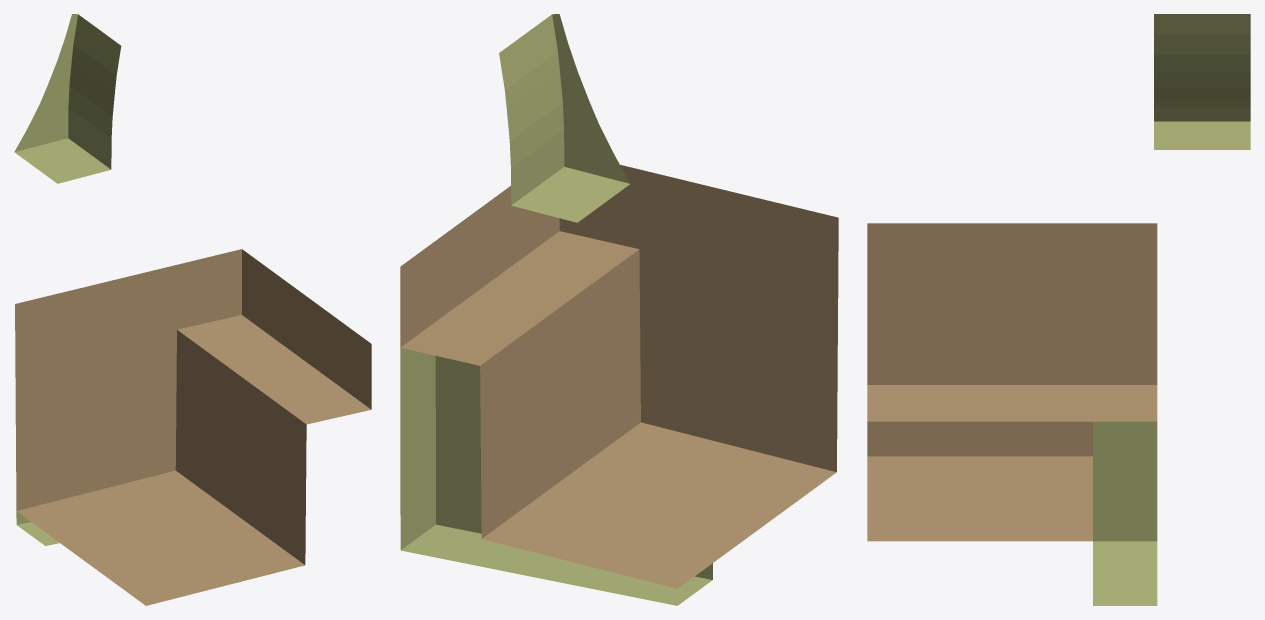
3 views of the same model, side by side, from view 1: azimuth 30°, elevation 25°; view 2: azimuth 150°, elevation 25°; view 3: azimuth 270°, elevation 25° (orthographic). The views are drawn at different scales.
Parts seen in each view (by area): view 1: 0_0_1_3_2_2_1_2_3; view 2: 0_0_1_3_2_2_1_2_3; view 3: 0_0_1_3_2_2_1_2_3.
Part boxes in pixels (box(x1,y1,x2,y2)): 0_0_1_3_2_2_1_2_3: box(14, 14, 371, 605); 0_0_1_3_2_2_1_2_3: box(400, 14, 838, 605); 0_0_1_3_2_2_1_2_3: box(867, 14, 1250, 605).
Size of the model in its own units: 27.31 by 53.62 by 35.7.
